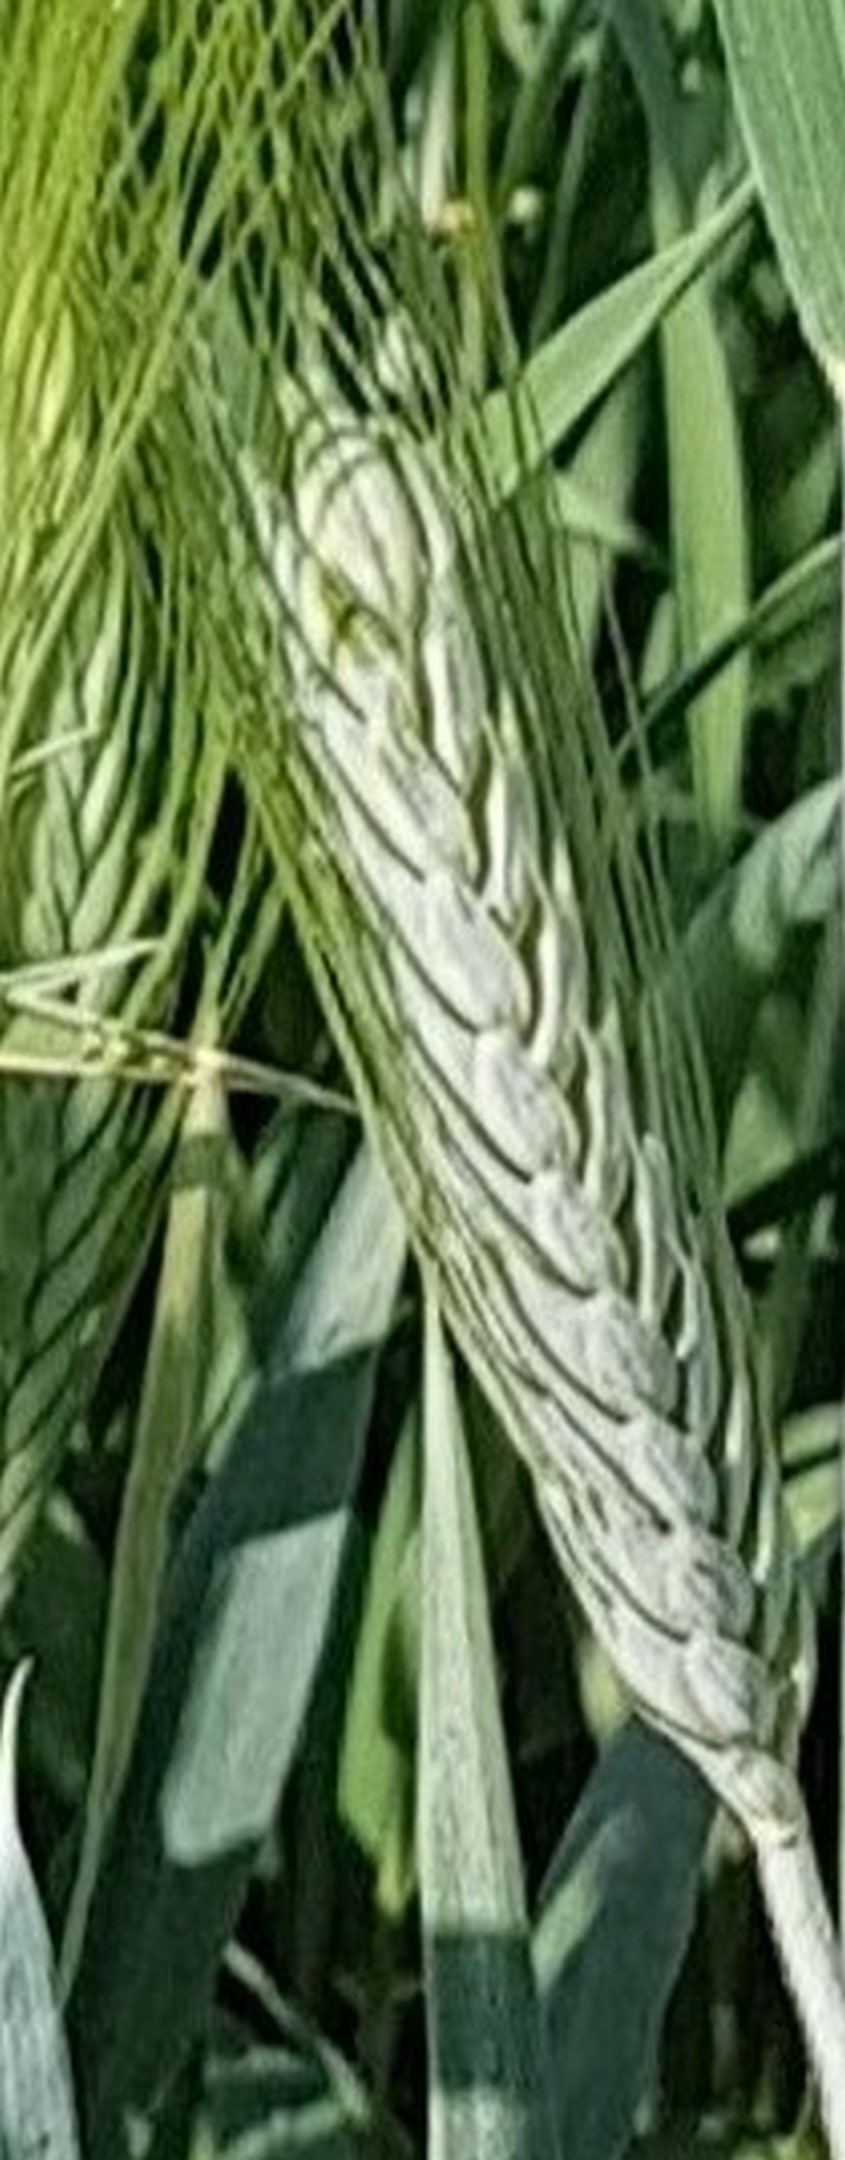Healthy Wheat: (207, 361, 845, 1715)
